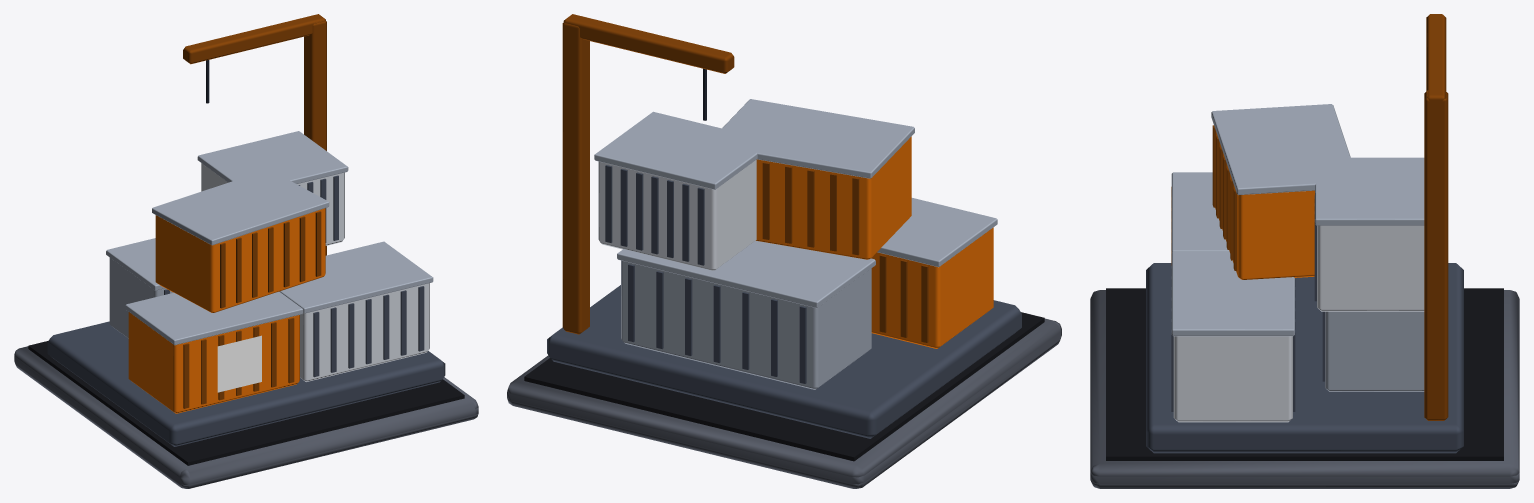
The model's file is ecs.glb.
3 views of the same model, side by side, from view 1: azimuth 30°, elevation 25°; view 2: azimuth 150°, elevation 25°; view 3: azimuth 270°, elevation 25° (orthographic). The views are drawn at different scales.
Visible parts, largest first — view 1: body.steel_light, body.steel, body.accent, body.concrete, body.accent_dark, body.white, body.rubber, body.badge; view 2: body.steel_light, body.steel, body.accent, body.accent_dark, body.concrete, body.rubber, body.white; view 3: body.steel_light, body.steel, body.white, body.concrete, body.rubber, body.accent_dark, body.accent.
Part boxes in pixels (x1=…): body.steel_light: x1=106, y1=131, x2=433, y2=345; body.steel: x1=47, y1=175, x2=445, y2=446; body.accent: x1=128, y1=208, x2=325, y2=413; body.concrete: x1=14, y1=346, x2=478, y2=488; body.accent_dark: x1=183, y1=14, x2=326, y2=408; body.white: x1=201, y1=163, x2=429, y2=381; body.rubber: x1=28, y1=341, x2=464, y2=465; body.badge: x1=217, y1=335, x2=261, y2=392; body.steel_light: x1=594, y1=99, x2=997, y2=389; body.steel: x1=547, y1=165, x2=1021, y2=438; body.accent: x1=756, y1=136, x2=993, y2=348; body.accent_dark: x1=562, y1=14, x2=928, y2=342; body.concrete: x1=507, y1=318, x2=1061, y2=488; body.rubber: x1=524, y1=312, x2=1044, y2=461; body.white: x1=598, y1=160, x2=756, y2=270; body.steel_light: x1=1171, y1=104, x2=1424, y2=391; body.steel: x1=1146, y1=195, x2=1463, y2=453; body.white: x1=1173, y1=225, x2=1424, y2=422; body.concrete: x1=1090, y1=290, x2=1519, y2=488; body.rubber: x1=1106, y1=288, x2=1503, y2=460; body.accent_dark: x1=1171, y1=14, x2=1448, y2=420; body.accent: x1=1215, y1=132, x2=1314, y2=279.
Size of the model in its own units: 1.08 by 1.07 by 1.08.
